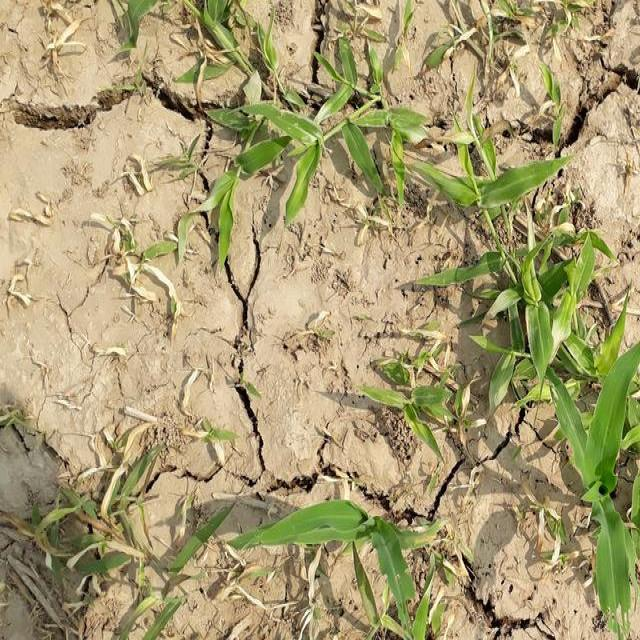weed: (379, 92, 608, 522), (198, 397, 403, 640), (154, 31, 358, 172)
